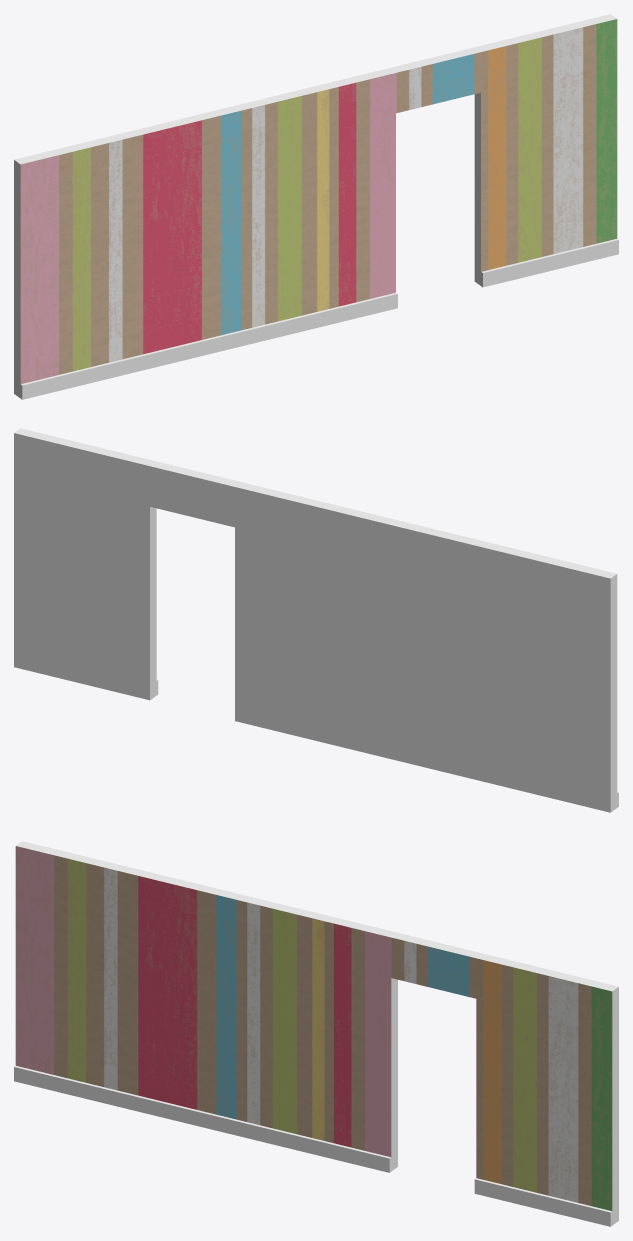
The model's file is door wall.FBX.
The picture shows the model from 3 angles, top to bottom: view 1: azimuth 30°, elevation 25°; view 2: azimuth 150°, elevation 25°; view 3: azimuth 330°, elevation 25°; orthographic projection.
Parts seen in each view (by area): view 1: door wall; view 2: door wall; view 3: door wall.
Part boxes in pixels (box(x1,y1,x2,y2)): door wall: box(14, 14, 618, 399); door wall: box(14, 428, 618, 812); door wall: box(14, 841, 618, 1226).
Size of the model in its own units: 800 by 19.37 by 300.
2 materials, 1 textured.
